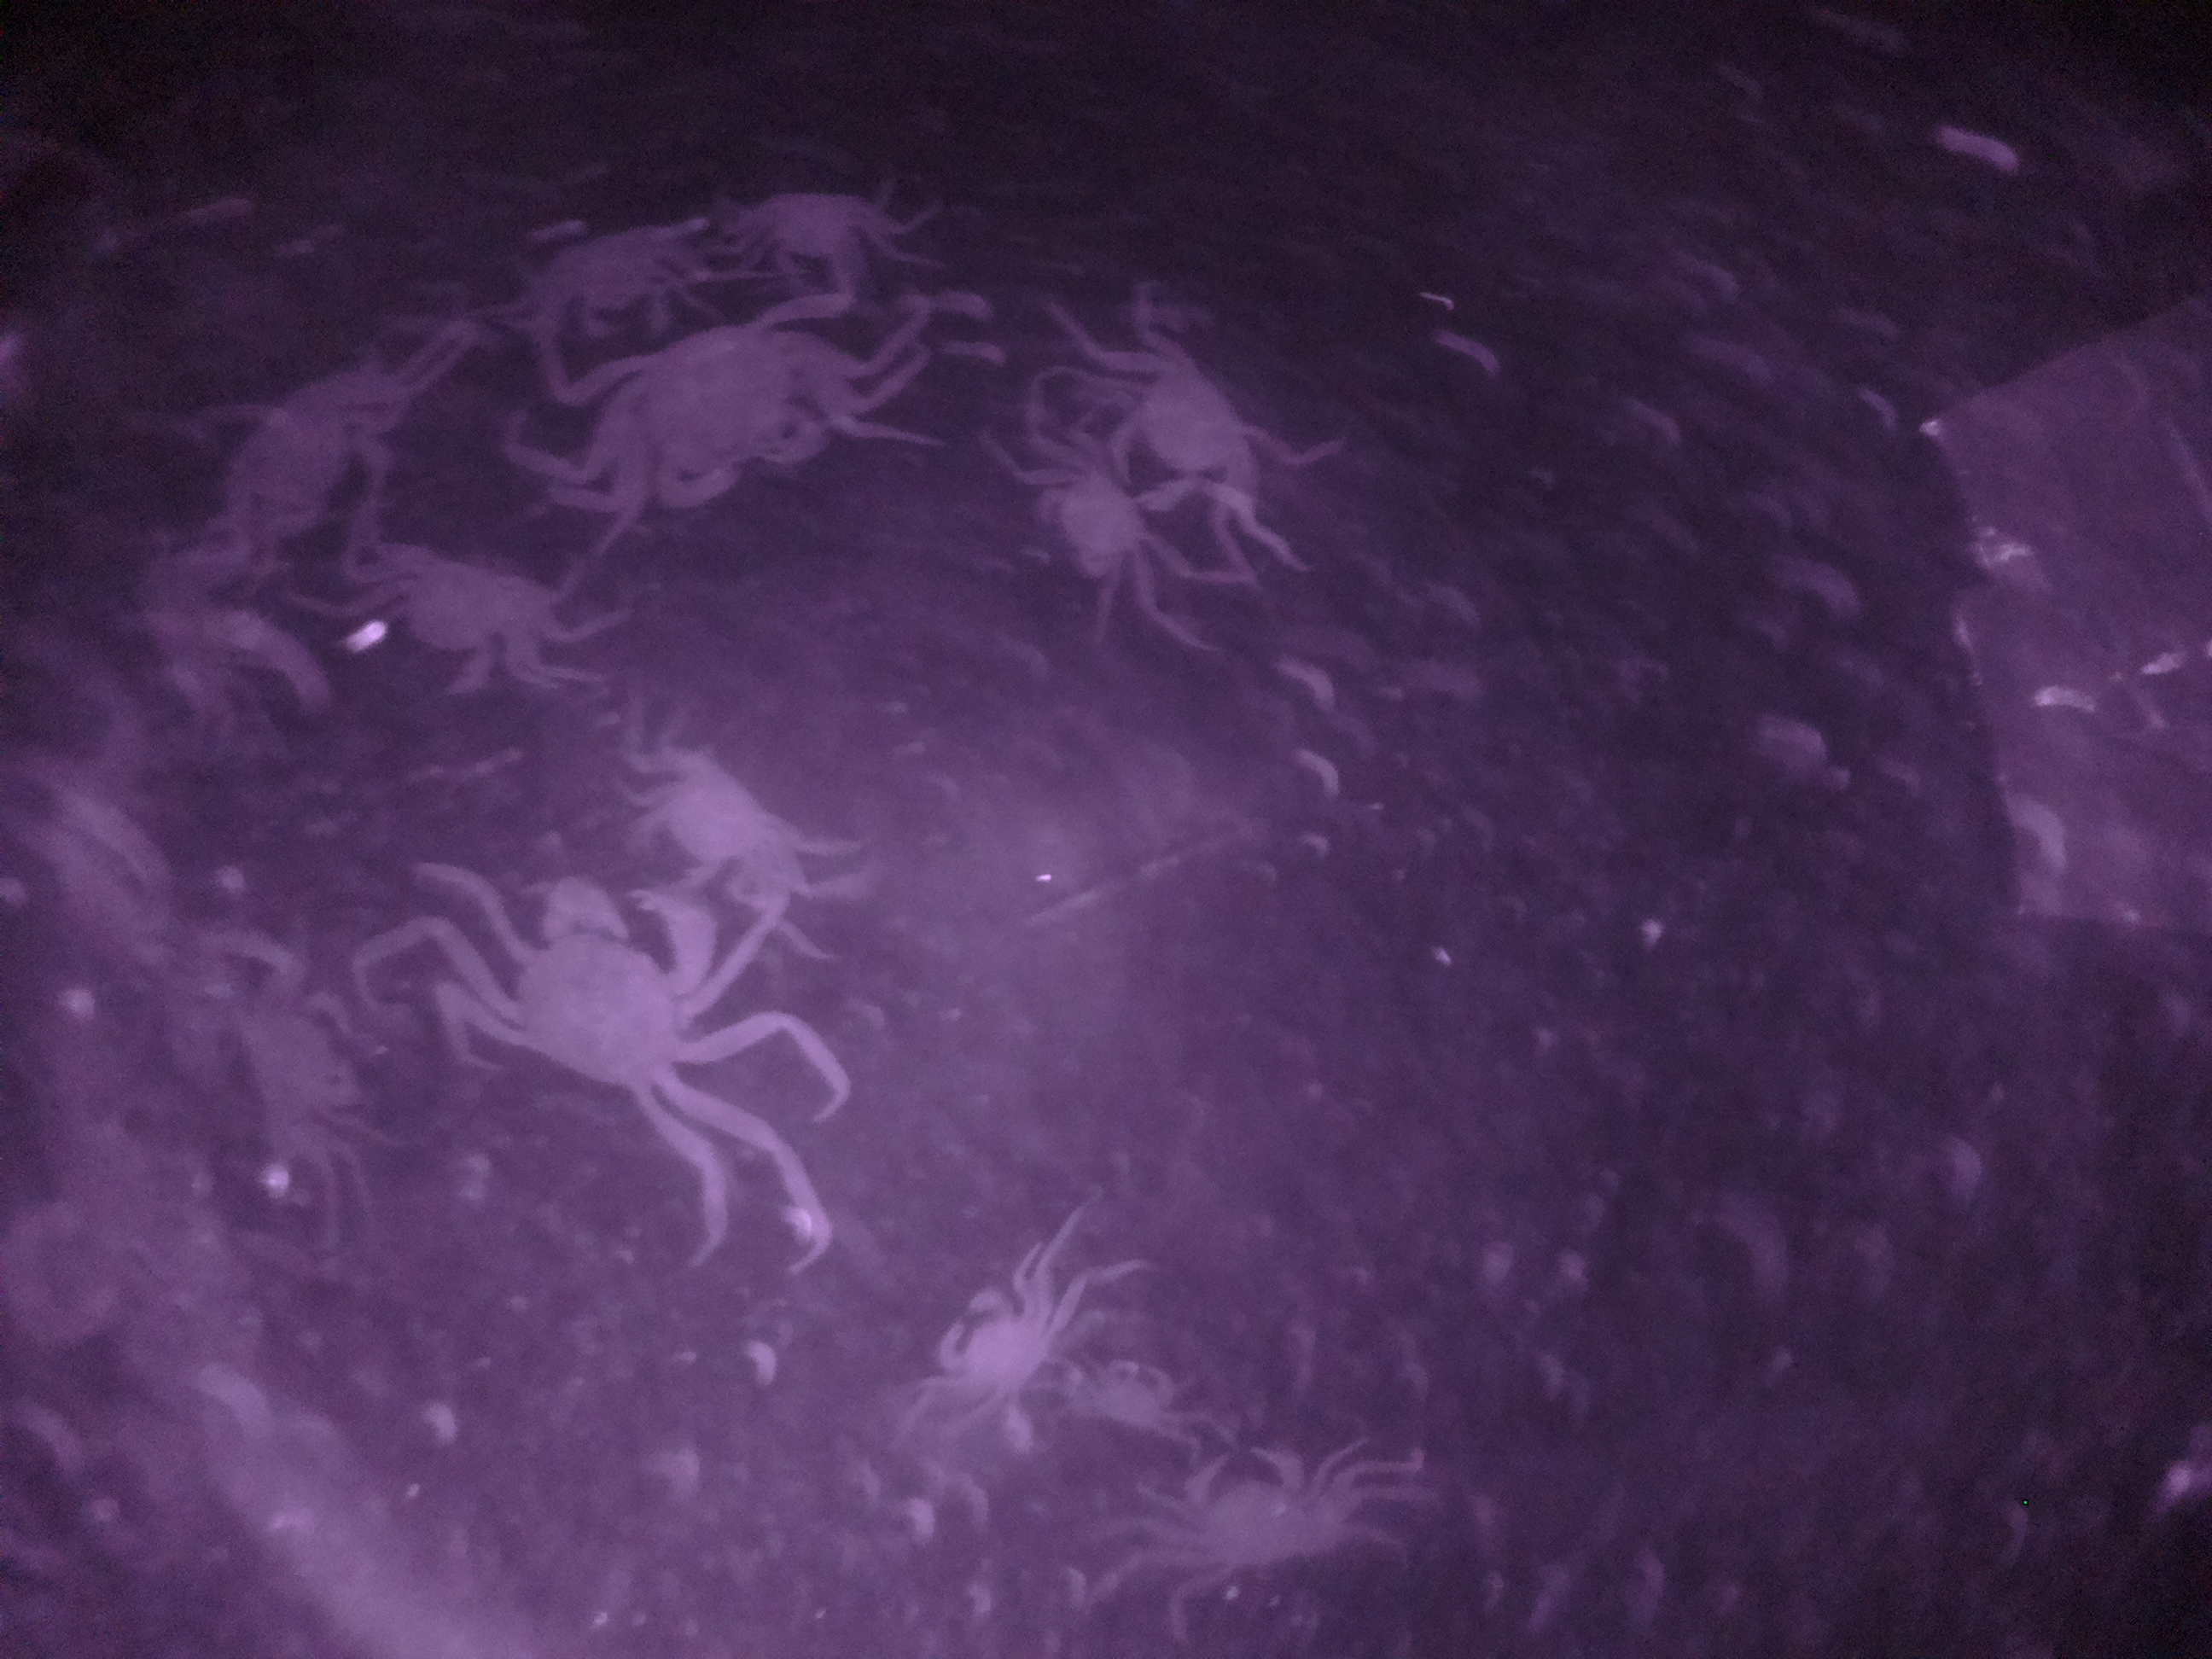Crab: (460, 887, 768, 1131), (592, 301, 852, 544), (1125, 1412, 1383, 1589), (921, 1237, 1108, 1452), (1003, 451, 1165, 603)
